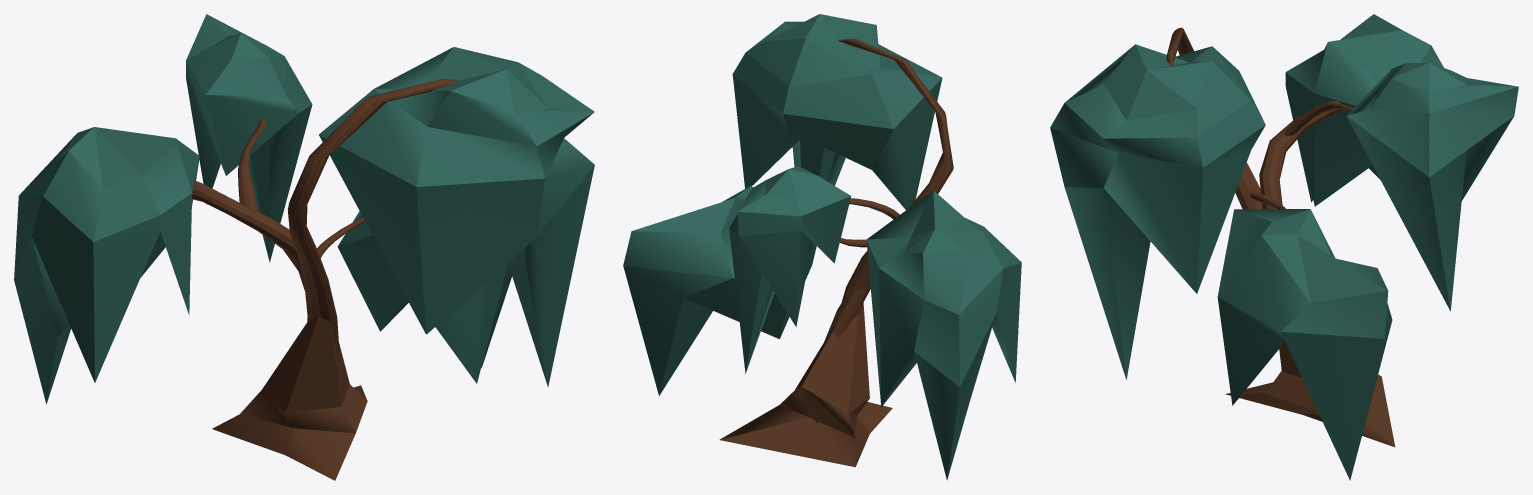
File: Trees_1.fbx
The picture shows the model from 3 angles, left to right: view 1: azimuth 30°, elevation 25°; view 2: azimuth 150°, elevation 25°; view 3: azimuth 270°, elevation 25°; orthographic projection. The views are drawn at different scales.
Visible parts, largest first — view 1: pSphere1, pSphere23, pSphere22, pSphere19, pSphere21, pCylinder24, pCylinder25, pCylinder27; view 2: pSphere1, pSphere23, pSphere21, pSphere22, pSphere19, pCylinder24, pCylinder25; view 3: pSphere1, pSphere21, pSphere22, pSphere23, pSphere19, pCylinder25, pCylinder24, pCylinder27.
Part boxes in pixels (x1=…): pSphere1: x1=319, y1=47, x2=594, y2=387; pSphere23: x1=14, y1=127, x2=199, y2=404; pSphere22: x1=186, y1=14, x2=312, y2=262; pSphere19: x1=212, y1=314, x2=367, y2=480; pSphere21: x1=337, y1=211, x2=511, y2=383; pCylinder24: x1=287, y1=79, x2=457, y2=362; pCylinder25: x1=192, y1=180, x2=316, y2=319; pCylinder27: x1=238, y1=119, x2=266, y2=211; pSphere1: x1=732, y1=14, x2=942, y2=209; pSphere23: x1=866, y1=190, x2=1021, y2=480; pSphere21: x1=623, y1=186, x2=816, y2=395; pSphere22: x1=729, y1=166, x2=851, y2=373; pSphere19: x1=719, y1=302, x2=892, y2=467; pCylinder24: x1=815, y1=38, x2=953, y2=422; pCylinder25: x1=841, y1=251, x2=870, y2=319; pSphere1: x1=1050, y1=44, x2=1265, y2=379; pSphere21: x1=1217, y1=209, x2=1392, y2=480; pSphere22: x1=1346, y1=62, x2=1518, y2=311; pSphere23: x1=1285, y1=14, x2=1443, y2=206; pSphere19: x1=1225, y1=342, x2=1395, y2=447; pCylinder25: x1=1259, y1=100, x2=1341, y2=209; pCylinder24: x1=1166, y1=27, x2=1262, y2=209; pCylinder27: x1=1284, y1=102, x2=1353, y2=135.
Size of the model in its own units: 0.1564 by 0.1362 by 0.1508.
